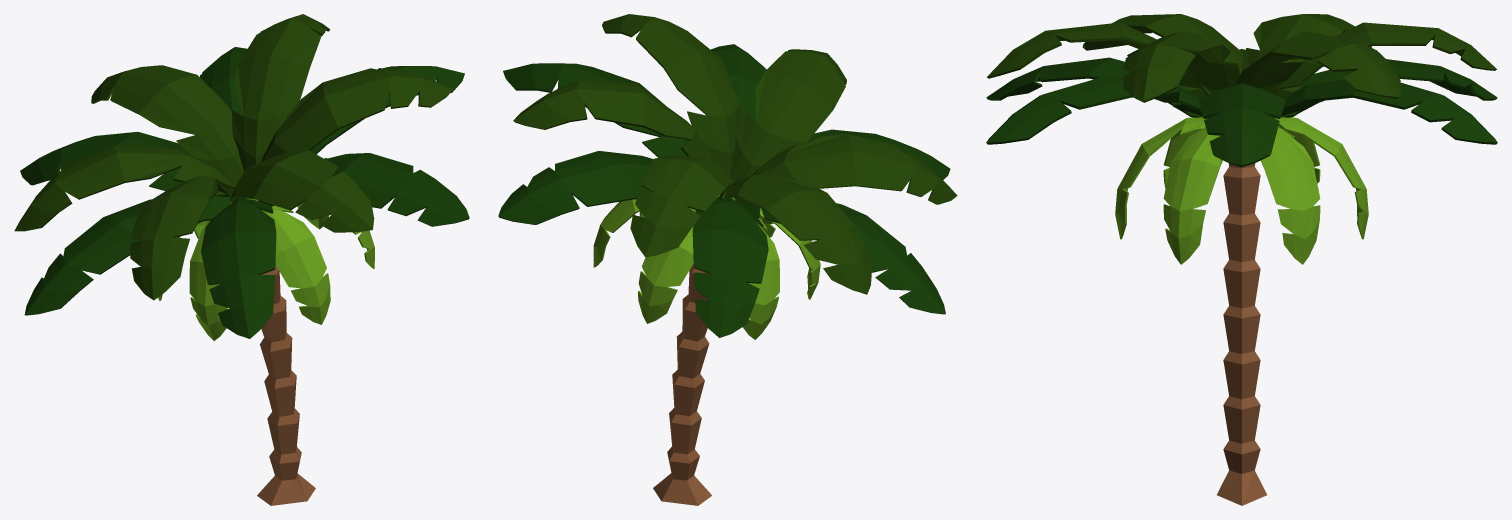
Rendered from tree_14.FBX.
The picture shows the model from 3 angles, left to right: view 1: azimuth 30°, elevation 25°; view 2: azimuth 150°, elevation 25°; view 3: azimuth 270°, elevation 25°; orthographic projection. The views are drawn at different scales.
Visible parts, largest first — view 1: Tree14; view 2: Tree14; view 3: Tree14.
Part boxes in pixels (x1,y1,x2,y2): Tree14: [14, 14, 469, 505]; Tree14: [498, 14, 957, 505]; Tree14: [986, 14, 1497, 505].
Bounding box in the file's own units: 133 × 125 × 120.
